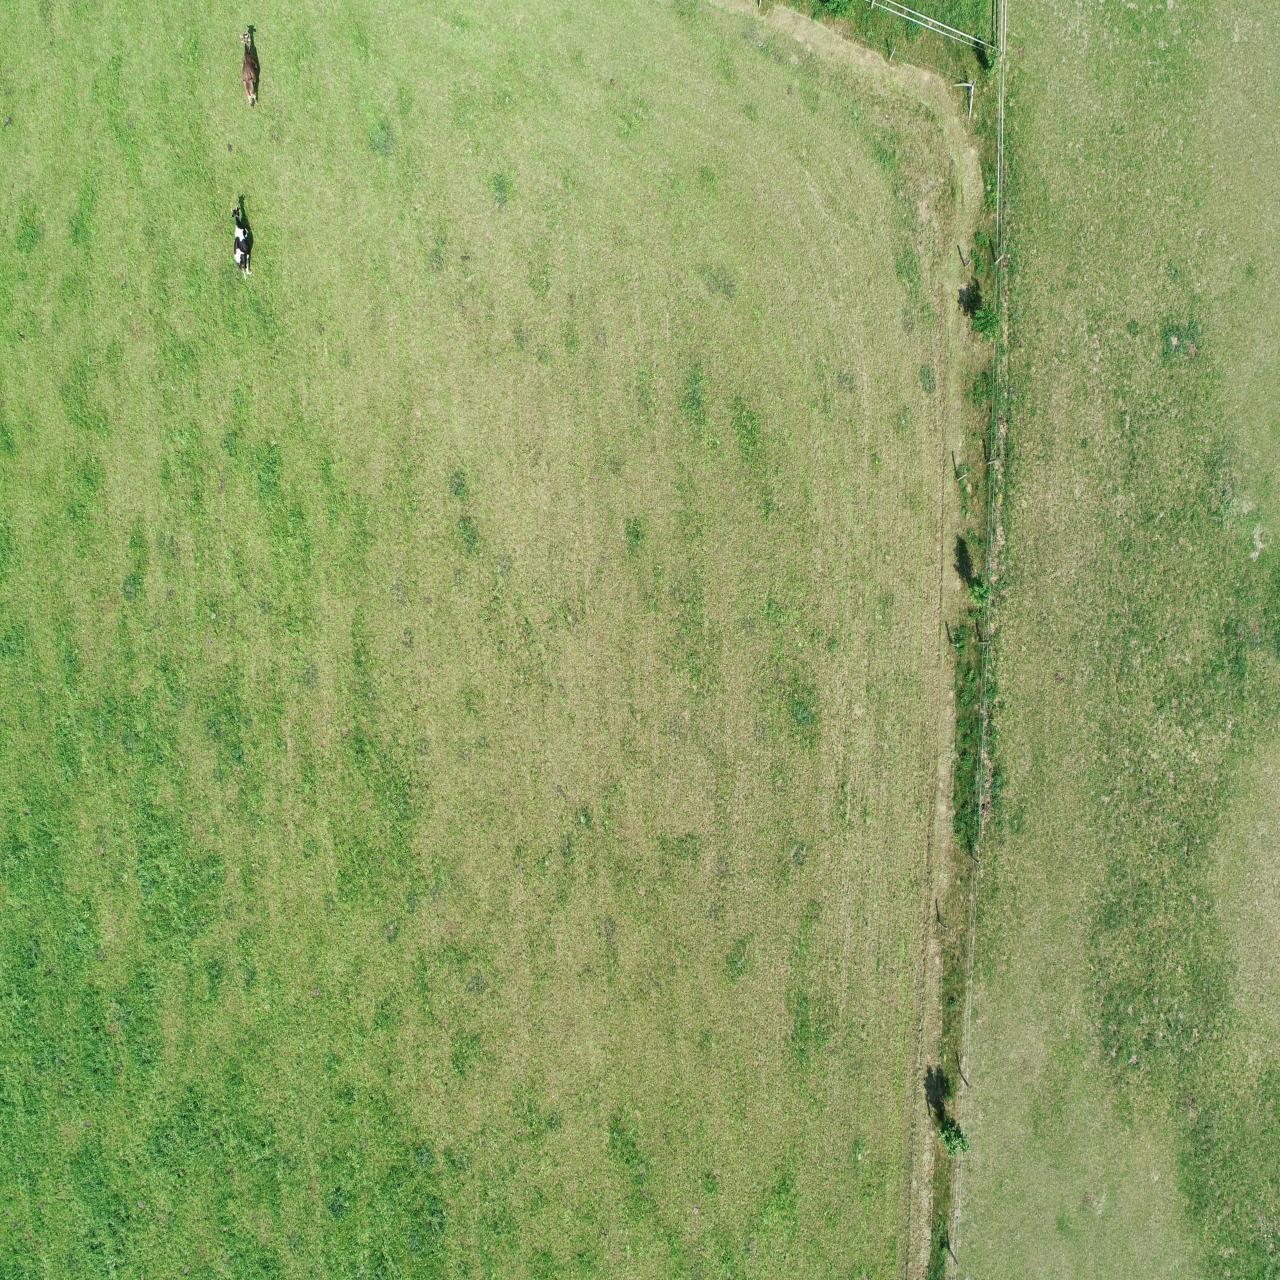cow: (229, 205, 253, 281), (238, 32, 260, 109)
